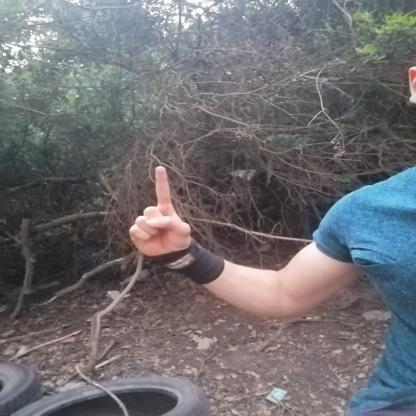BAA: (113, 158, 207, 266)
